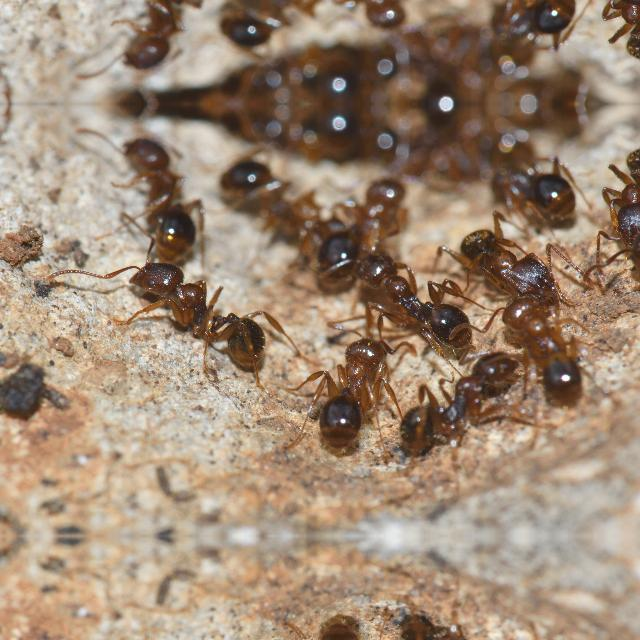Apheanogaster: (110, 250, 282, 374), (217, 146, 366, 254), (404, 343, 528, 452), (302, 172, 421, 282), (349, 248, 481, 346), (106, 130, 208, 254), (301, 326, 401, 448), (496, 290, 600, 400), (476, 115, 586, 217), (474, 0, 585, 90), (448, 221, 574, 299), (216, 0, 364, 60), (106, 0, 208, 76), (594, 134, 640, 250), (300, 0, 419, 32), (593, 0, 638, 70), (402, 618, 528, 640)
